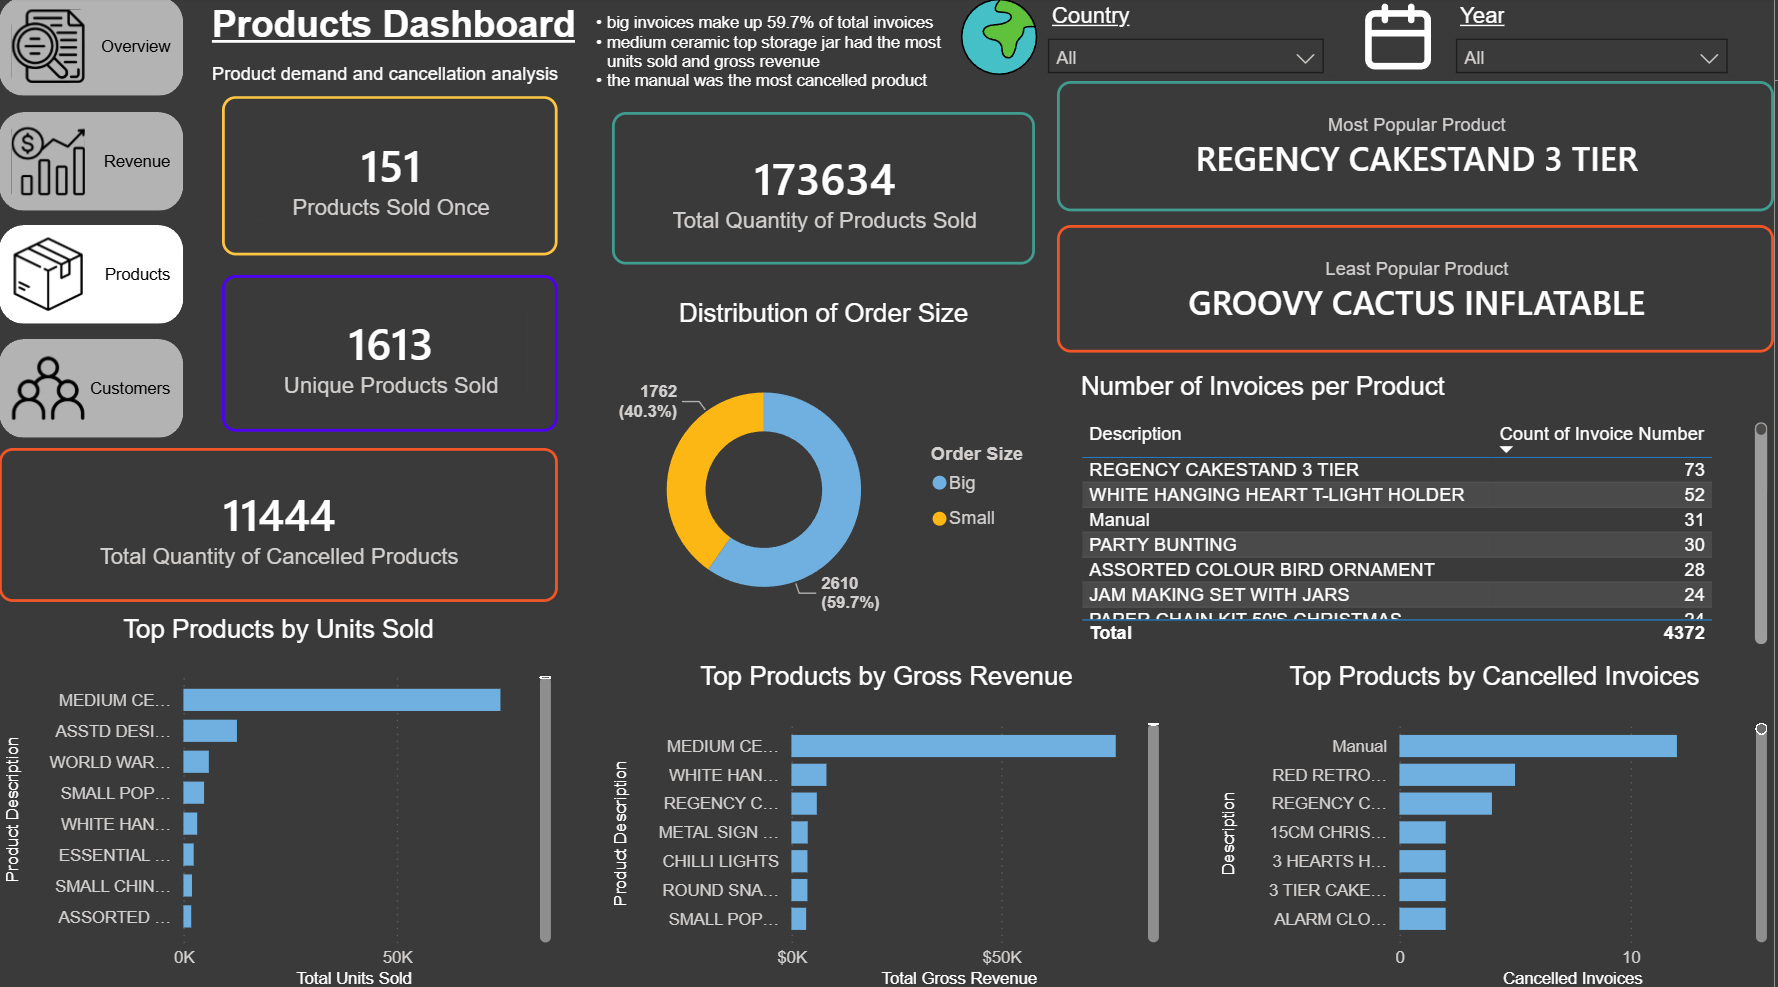

This screenshot's page, from the dashboard's own definition file:
{"tool":"powerbi","page":{"name":"Products","canvas":[1280,720],"ordinal":2},"visuals":[{"type":"actionButton","box":[0,0,132.8,71.4],"z":0,"group":"g1"},{"type":"textbox","box":[148.9,0,277.6,71.7],"z":0},{"type":"actionButton","box":[0,83,132.8,71.4],"z":1000,"group":"g1"},{"type":"clusteredBarChart","title":"Top Products by Gross Revenue","fields":{"Y":["Invoice.Total Gross Revenue"],"Category":["Product.Description"]},"box":[438.4,478.8,403.1,240.9],"z":1000},{"type":"actionButton","box":[0,164.4,132.8,71.4],"z":2000,"group":"g1"},{"type":"clusteredBarChart","title":"Top Products by Units Sold","fields":{"Y":["Invoice.Total Units Sold"],"Category":["Product.Description"]},"box":[0,445,403.1,274.8],"z":2000},{"type":"group","id":"g1","title":"Group 1","box":[0,0,132.8,318],"z":3000},{"type":"actionButton","box":[0,246.6,132.8,71.4],"z":3000,"group":"g1"},{"type":"cardVisual","fields":{"Data":["Customer.Total Qty Purchased"]},"box":[442.1,82.9,305,110.3],"z":4000},{"type":"donutChart","title":"Distribution of Order Size","fields":{"Category":["Invoice.Order Size"],"Y":["CountNonNull(Invoice.Order Size)"]},"box":[426.2,217.1,336.8,244.5],"z":5000},{"type":"tableEx","title":"Number of Invoices per Product","fields":{"Values":["Product.Description","Invoice.Invoice Number"]},"box":[775.2,269.7,504.6,201.5],"z":6000},{"type":"clusteredBarChart","title":"Top Products by Cancelled Invoices","fields":{"Category":["Product.Description"],"Y":["Invoice.Cancelled Invoices"]},"box":[876.9,478.8,403.1,240.9],"z":7000},{"type":"cardVisual","fields":{"Data":["Invoice.Single Item Products"]},"box":[160.7,71.7,242.1,115.5],"z":8000},{"type":"slicer","fields":{"Values":["Country.Country"]},"box":[746.4,0,218.6,56.9],"z":9000,"group":"g2"},{"type":"cardVisual","fields":{"Data":["Invoice.Cancelled Item Quantity"]},"box":[0,324.9,402.8,110.6],"z":9000},{"type":"slicer","fields":{"Values":["Date.Year"]},"box":[1040.6,0,215.6,57],"z":10000,"group":"g3"},{"type":"cardVisual","fields":{"Data":["Count(Product.Stock Code)"]},"box":[160.7,200.3,242.1,112.7],"z":10000},{"type":"textbox","box":[148.9,42.4,266.4,29.2],"z":11000},{"type":"image","box":[691.6,0,59.9,57],"z":12000,"group":"g2"},{"type":"cardVisual","title":"Most Popular Product","fields":{"Data":["Invoice.Most Popular Product"]},"box":[763,60.6,517,93.7],"z":12000},{"type":"image","box":[976.4,0,64.2,57],"z":12002,"group":"g3"},{"type":"cardVisual","title":"Least Popular Product","fields":{"Data":["Invoice.Least Popular Product"]},"box":[763,164.4,517,92.3],"z":13000},{"type":"group","id":"g2","title":"Group 2","box":[691.6,0,273.3,57],"z":13001},{"type":"group","id":"g3","title":"Group 3","box":[976.4,0,279.8,57],"z":13002},{"type":"textbox","box":[415.4,6.5,276.2,72.1],"z":13003}]}

Visuals, with their boxes in screenshot pixels (x1, y1, x2, y2), scaled from the page's 1280x720 canvas onto the 1778x987 screenshot:
actionButton: pyautogui.locateOnScreen(0, 0, 184, 98)
textbox: pyautogui.locateOnScreen(207, 0, 592, 98)
actionButton: pyautogui.locateOnScreen(0, 114, 184, 212)
"Top Products by Gross Revenue" clusteredBarChart: pyautogui.locateOnScreen(609, 656, 1169, 986)
actionButton: pyautogui.locateOnScreen(0, 225, 184, 323)
"Top Products by Units Sold" clusteredBarChart: pyautogui.locateOnScreen(0, 610, 560, 986)
"Group 1" group: pyautogui.locateOnScreen(0, 0, 184, 436)
actionButton: pyautogui.locateOnScreen(0, 338, 184, 436)
cardVisual - Customer.Total Qty Purchased: pyautogui.locateOnScreen(614, 114, 1038, 265)
"Distribution of Order Size" donutChart: pyautogui.locateOnScreen(592, 298, 1060, 633)
"Number of Invoices per Product" tableEx: pyautogui.locateOnScreen(1077, 370, 1777, 646)
"Top Products by Cancelled Invoices" clusteredBarChart: pyautogui.locateOnScreen(1218, 656, 1777, 986)
cardVisual - Invoice.Single Item Products: pyautogui.locateOnScreen(223, 98, 560, 257)
slicer - Country.Country: pyautogui.locateOnScreen(1037, 0, 1340, 78)
cardVisual - Invoice.Cancelled Item Quantity: pyautogui.locateOnScreen(0, 445, 560, 597)
slicer - Date.Year: pyautogui.locateOnScreen(1445, 0, 1745, 78)
cardVisual - Count(Product.Stock Code): pyautogui.locateOnScreen(223, 275, 560, 429)
textbox: pyautogui.locateOnScreen(207, 58, 577, 98)
image: pyautogui.locateOnScreen(961, 0, 1044, 78)
"Most Popular Product" cardVisual: pyautogui.locateOnScreen(1060, 83, 1777, 212)
image: pyautogui.locateOnScreen(1356, 0, 1445, 78)
"Least Popular Product" cardVisual: pyautogui.locateOnScreen(1060, 225, 1777, 352)
"Group 2" group: pyautogui.locateOnScreen(961, 0, 1340, 78)
"Group 3" group: pyautogui.locateOnScreen(1356, 0, 1745, 78)
textbox: pyautogui.locateOnScreen(577, 9, 961, 108)
